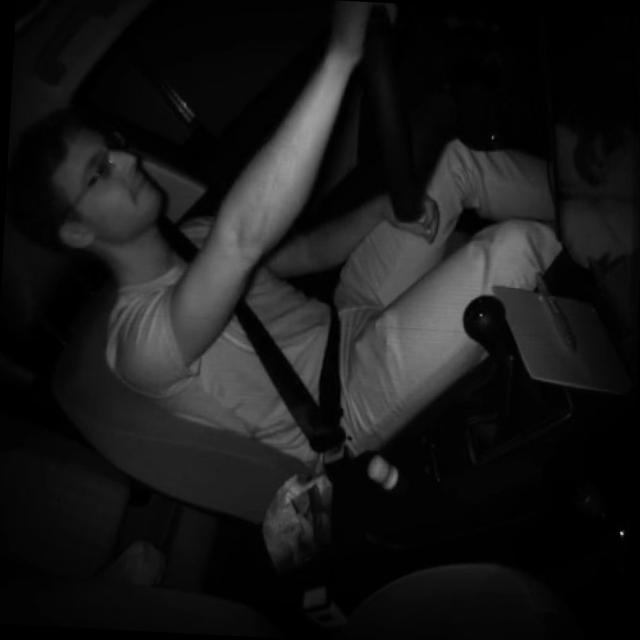pen: (529, 262, 585, 360)
